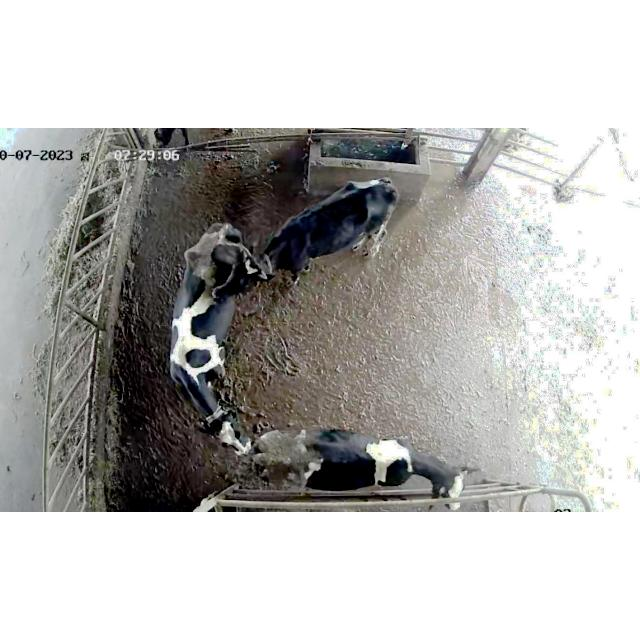propping: (177, 244, 279, 312)
